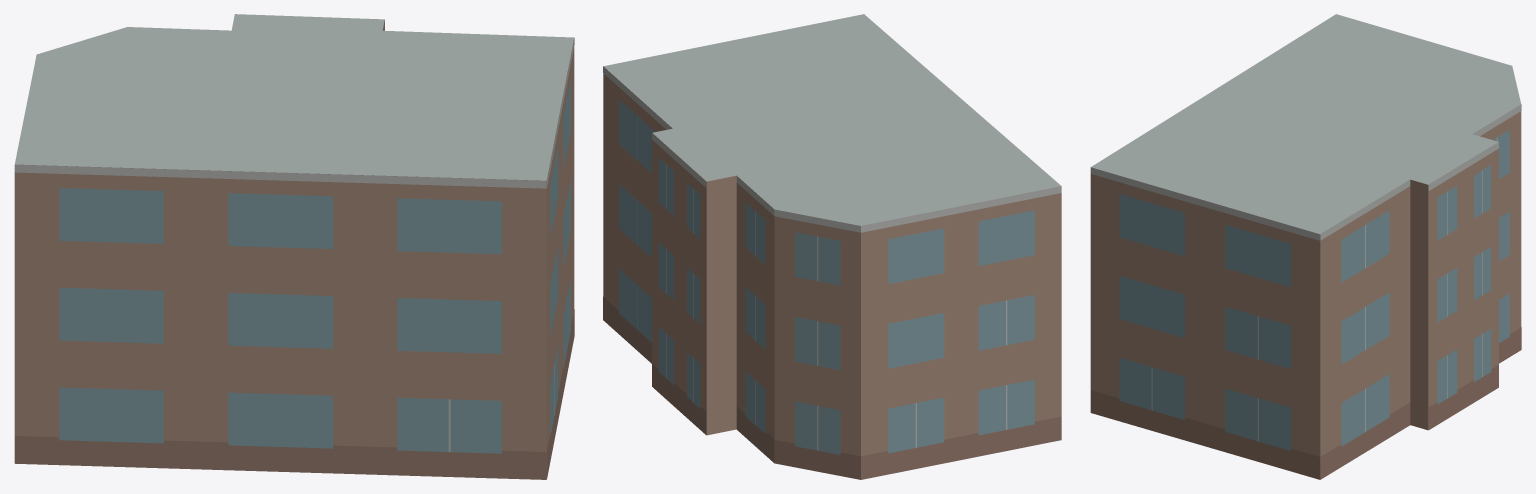
The model's file is survey-upis-32700482.glb.
3 views of the same model, side by side, from view 1: azimuth 30°, elevation 25°; view 2: azimuth 150°, elevation 25°; view 3: azimuth 270°, elevation 25° (orthographic). The views are drawn at different scales.
Parts seen in each view (by area): view 1: survey-upis-32700482.tmp; view 2: survey-upis-32700482.tmp; view 3: survey-upis-32700482.tmp.
Boxes of the visible parts, x1,y1,x2,y2 form: survey-upis-32700482.tmp: (14, 14, 574, 479); survey-upis-32700482.tmp: (603, 14, 1061, 479); survey-upis-32700482.tmp: (1090, 14, 1521, 479).
Bounding box in the file's own units: 17.61 × 9.15 × 14.56.
